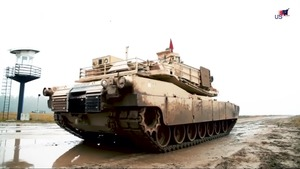abrams: (44, 54, 247, 150)
